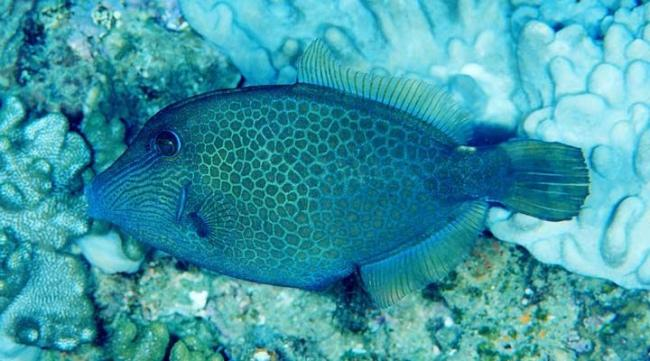fish: (84, 42, 590, 308)
